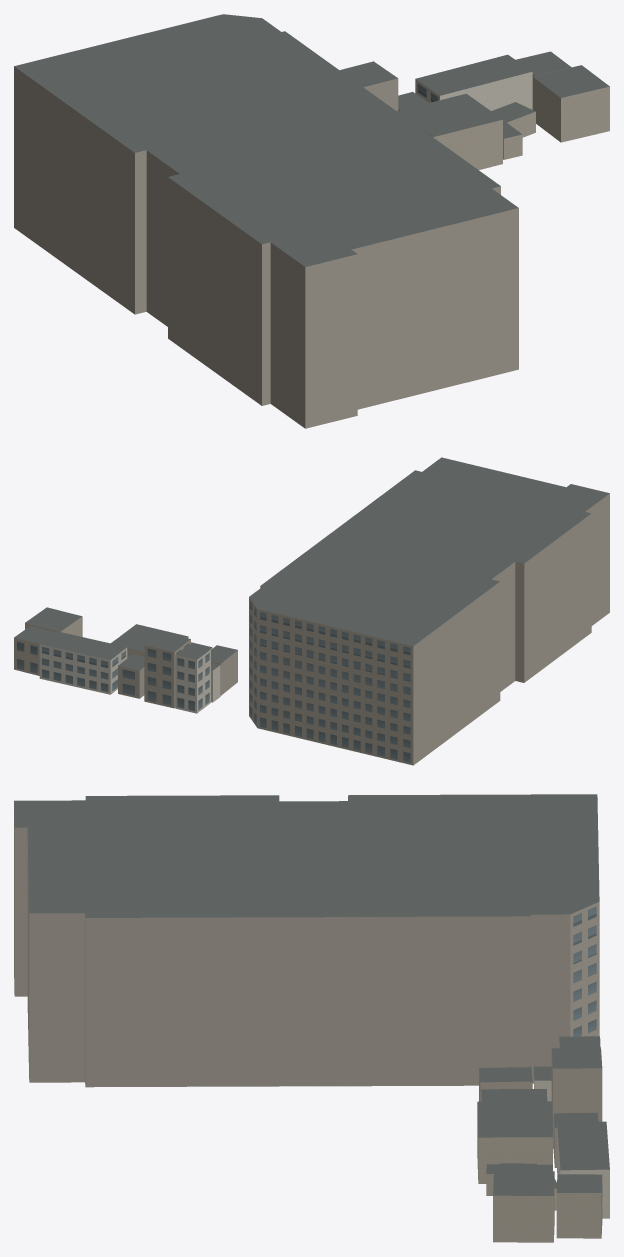
3 renders of one model, top to bottom at view 1: azimuth 30°, elevation 25°; view 2: azimuth 150°, elevation 25°; view 3: azimuth 270°, elevation 25°, orthographic. The views are drawn at different scales.
Visible parts, largest first — view 1: cell-e006-s001_base_tile-wall, cell-e006-s001_base_roof, cell-e006-s001_base_stone, cell-e006-s001_base_plaster; view 2: cell-e006-s001_base_tile-wall, cell-e006-s001_base_roof, cell-e006-s001_base_glass, cell-e006-s001_base_plaster, cell-e006-s001_base_stone; view 3: cell-e006-s001_base_tile-wall, cell-e006-s001_base_roof, cell-e006-s001_base_stone, cell-e006-s001_base_glass, cell-e006-s001_base_plaster.
Part boxes in pixels (x1,y1,x2,y2): cell-e006-s001_base_tile-wall: (14, 66, 518, 428); cell-e006-s001_base_roof: (14, 14, 609, 266); cell-e006-s001_base_stone: (412, 69, 609, 169); cell-e006-s001_base_plaster: (415, 71, 532, 110); cell-e006-s001_base_tile-wall: (118, 493, 609, 765); cell-e006-s001_base_roof: (14, 457, 609, 670); cell-e006-s001_base_glass: (17, 601, 410, 762); cell-e006-s001_base_plaster: (39, 644, 220, 713); cell-e006-s001_base_stone: (14, 616, 188, 675); cell-e006-s001_base_tile-wall: (14, 809, 602, 1167); cell-e006-s001_base_roof: (14, 794, 609, 1195); cell-e006-s001_base_stone: (477, 1112, 602, 1242); cell-e006-s001_base_glass: (573, 906, 602, 1231); cell-e006-s001_base_plaster: (481, 1042, 609, 1218).
Size of the model in its own units: 96.58 by 27.28 by 87.1.
5 materials, 4 textured.
